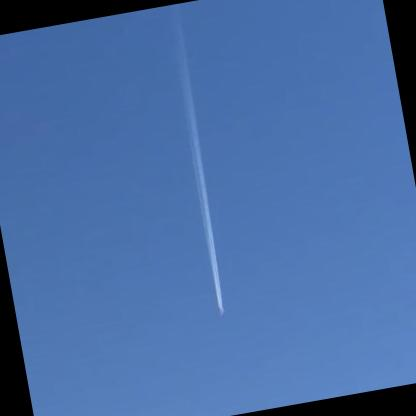plane: (216, 306, 230, 318)
